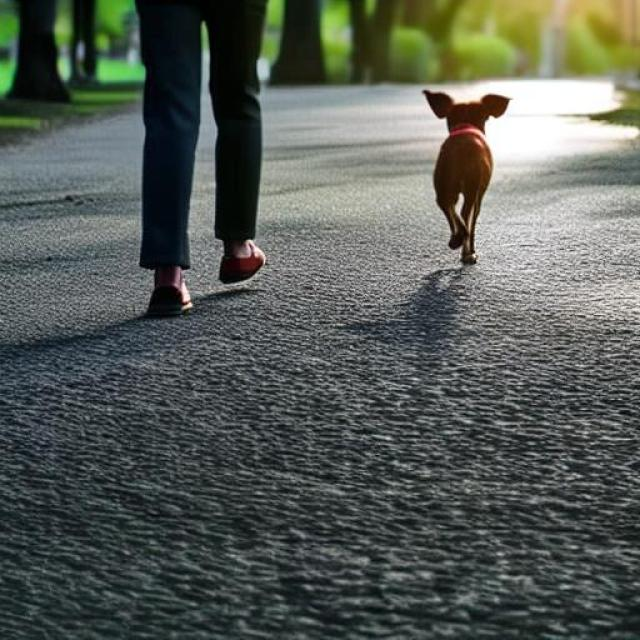Unleashed_Dog: (142, 0, 514, 265)
